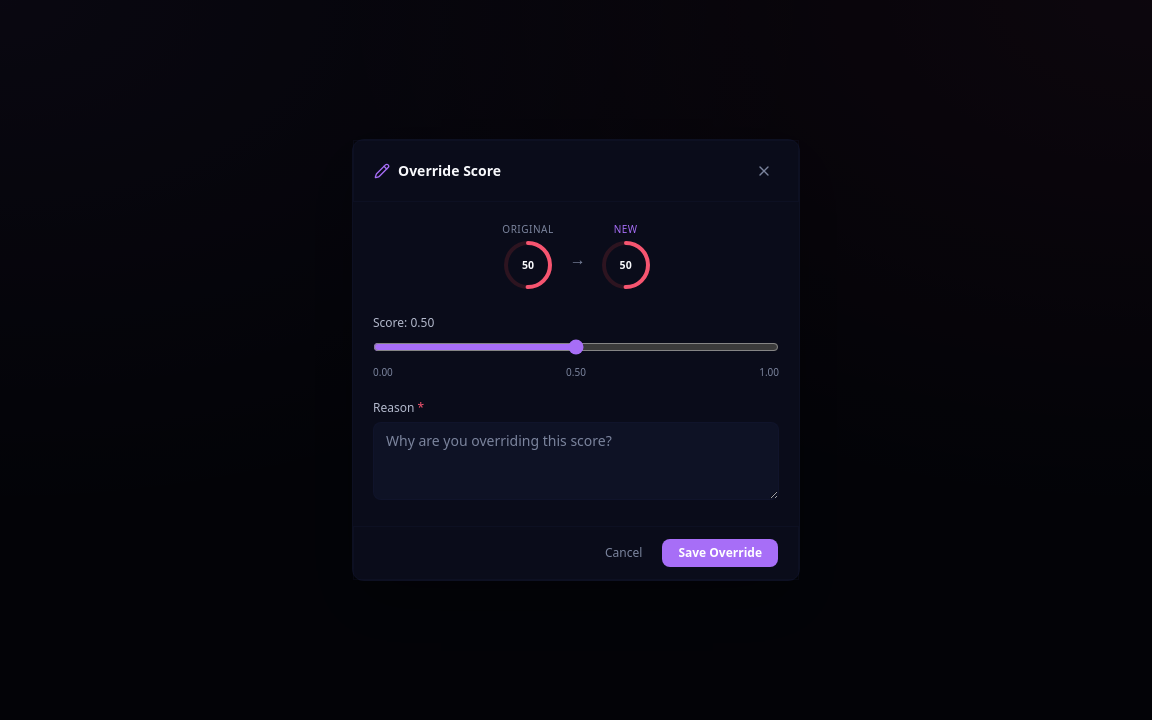
Test: OverrideScoreModal › clears error when user starts typing
Click the button "Save Override".
click(720, 553)  # box 662,539 -> 778,567
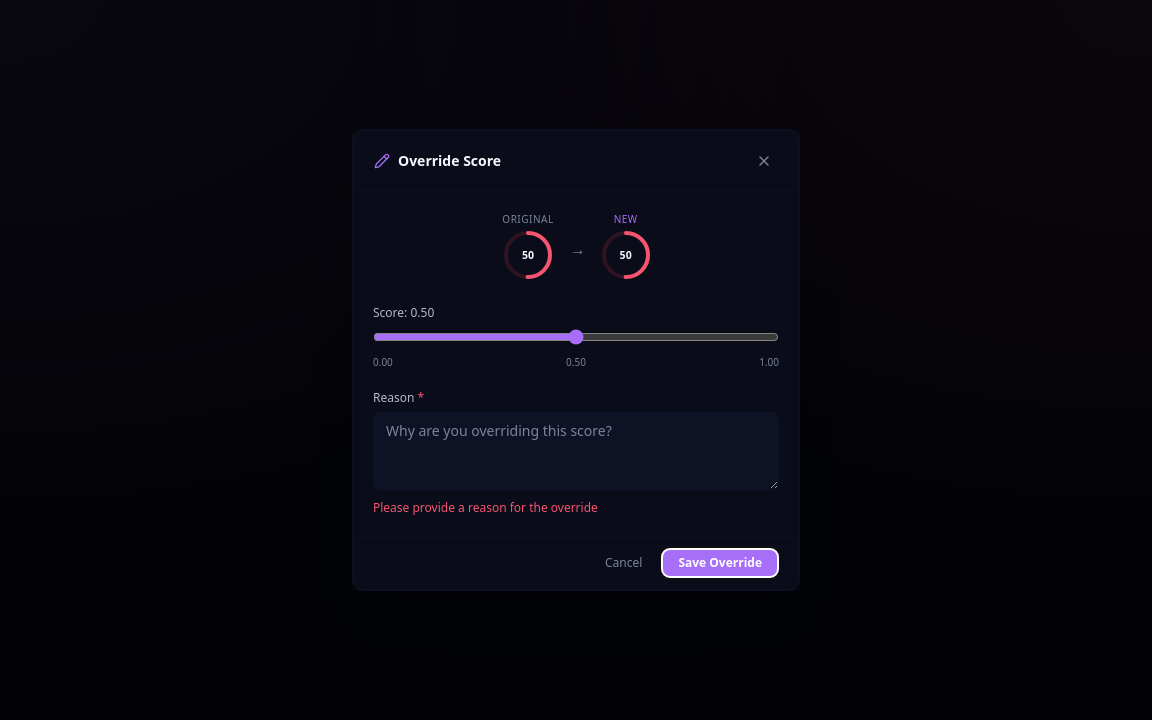
Now the text "Please provide a reason for the override" is shown, box 373,499 -> 598,516
Type "x" into the text box with placeholder "Why are you overriding this score?".
click(576, 451); type("x")  # box 373,412 -> 779,490
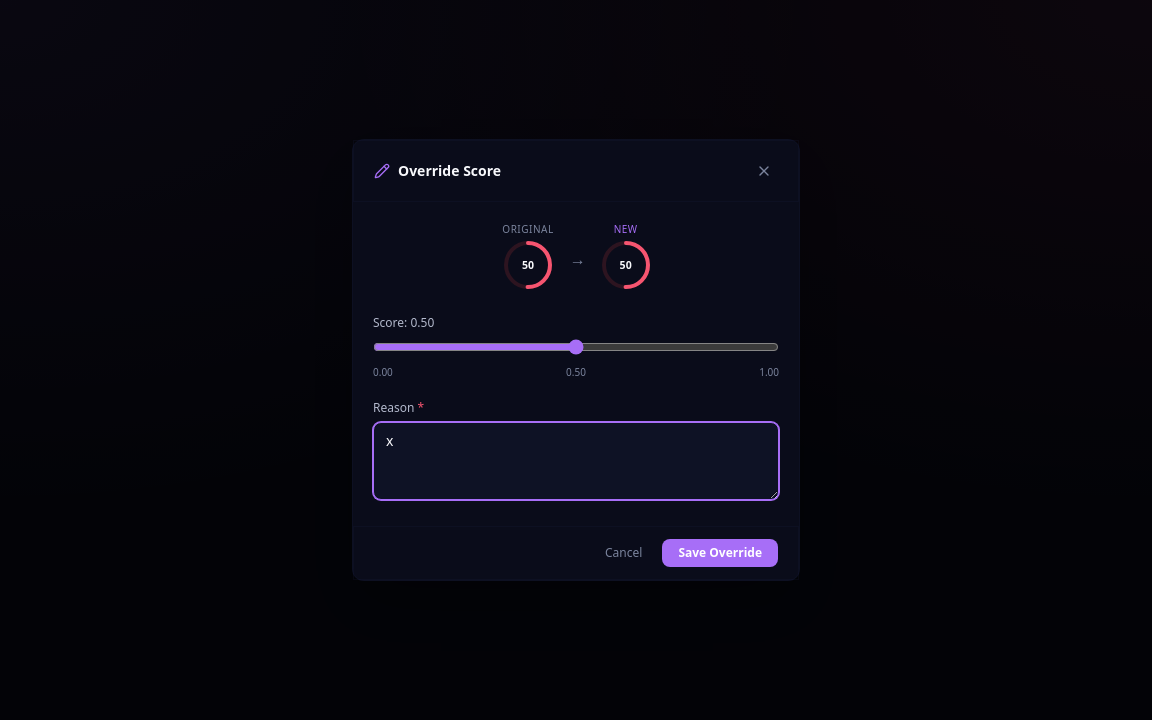
Now the text "Please provide a reason" is gone
